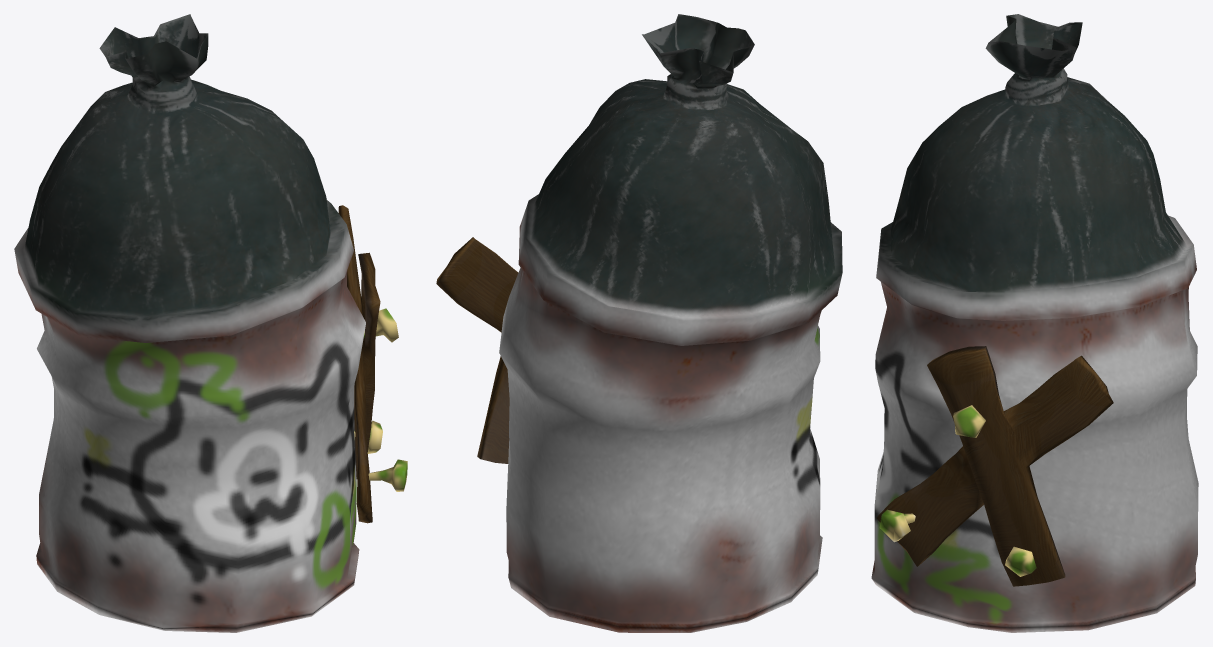
The model's file is Trash_LODS_AshleyMacNutt02262025.fbx.
3 views of the same model, side by side, from view 1: azimuth 30°, elevation 25°; view 2: azimuth 150°, elevation 25°; view 3: azimuth 270°, elevation 25° (orthographic). The views are drawn at different scales.
Visible parts, largest first — view 1: Trash_LOD0; view 2: Trash_LOD0; view 3: Trash_LOD0.
Part boxes in pixels (box(x1,y1,x2,y2)): Trash_LOD0: box(14, 14, 407, 632); Trash_LOD0: box(436, 14, 842, 632); Trash_LOD0: box(871, 14, 1198, 632).
Size of what is drawn, in the model's own units: 247 by 370 by 208.
